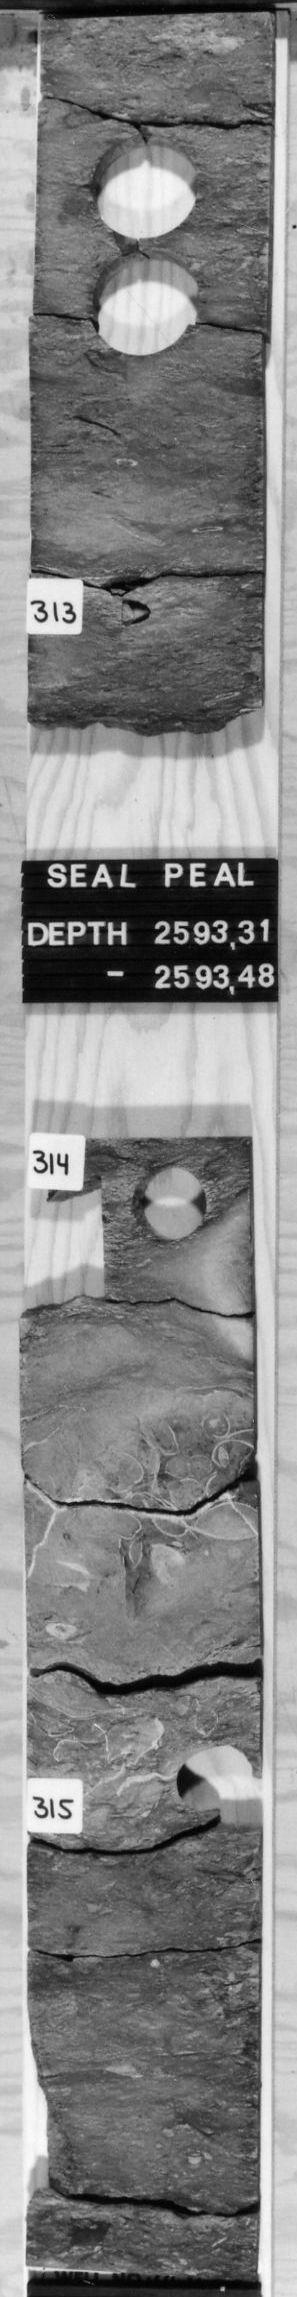hplug: (127, 1157, 219, 1254), (170, 1732, 255, 1819), (107, 593, 162, 631)
scal: (86, 245, 206, 359), (86, 130, 208, 243)
vplug: (47, 1170, 114, 1308)
